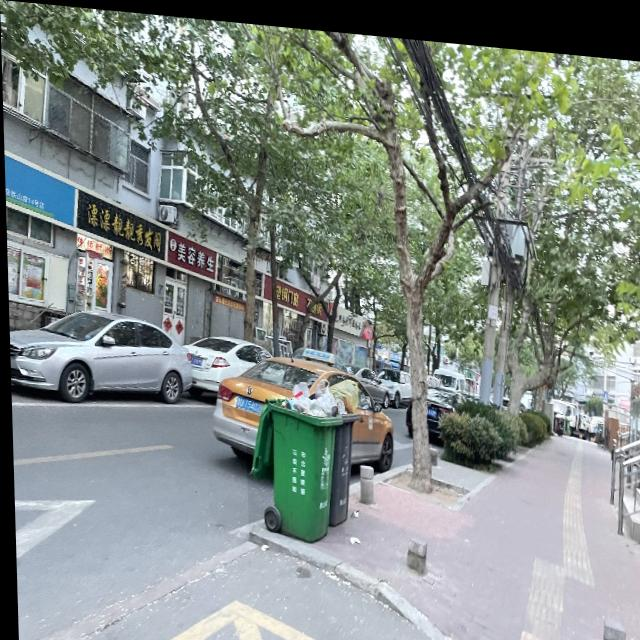overflow: (242, 369, 342, 538), (321, 371, 362, 522)
